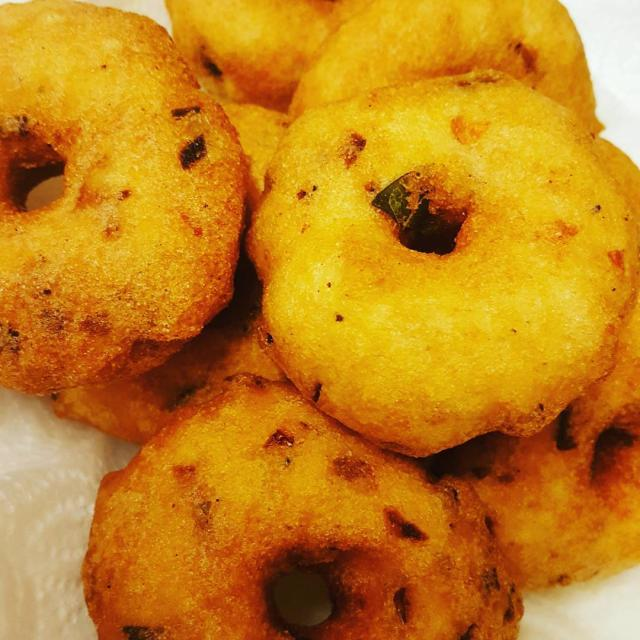Wet Waste: (246, 106, 637, 449), (2, 5, 263, 355), (101, 412, 474, 640), (184, 0, 593, 142), (473, 386, 640, 576)
